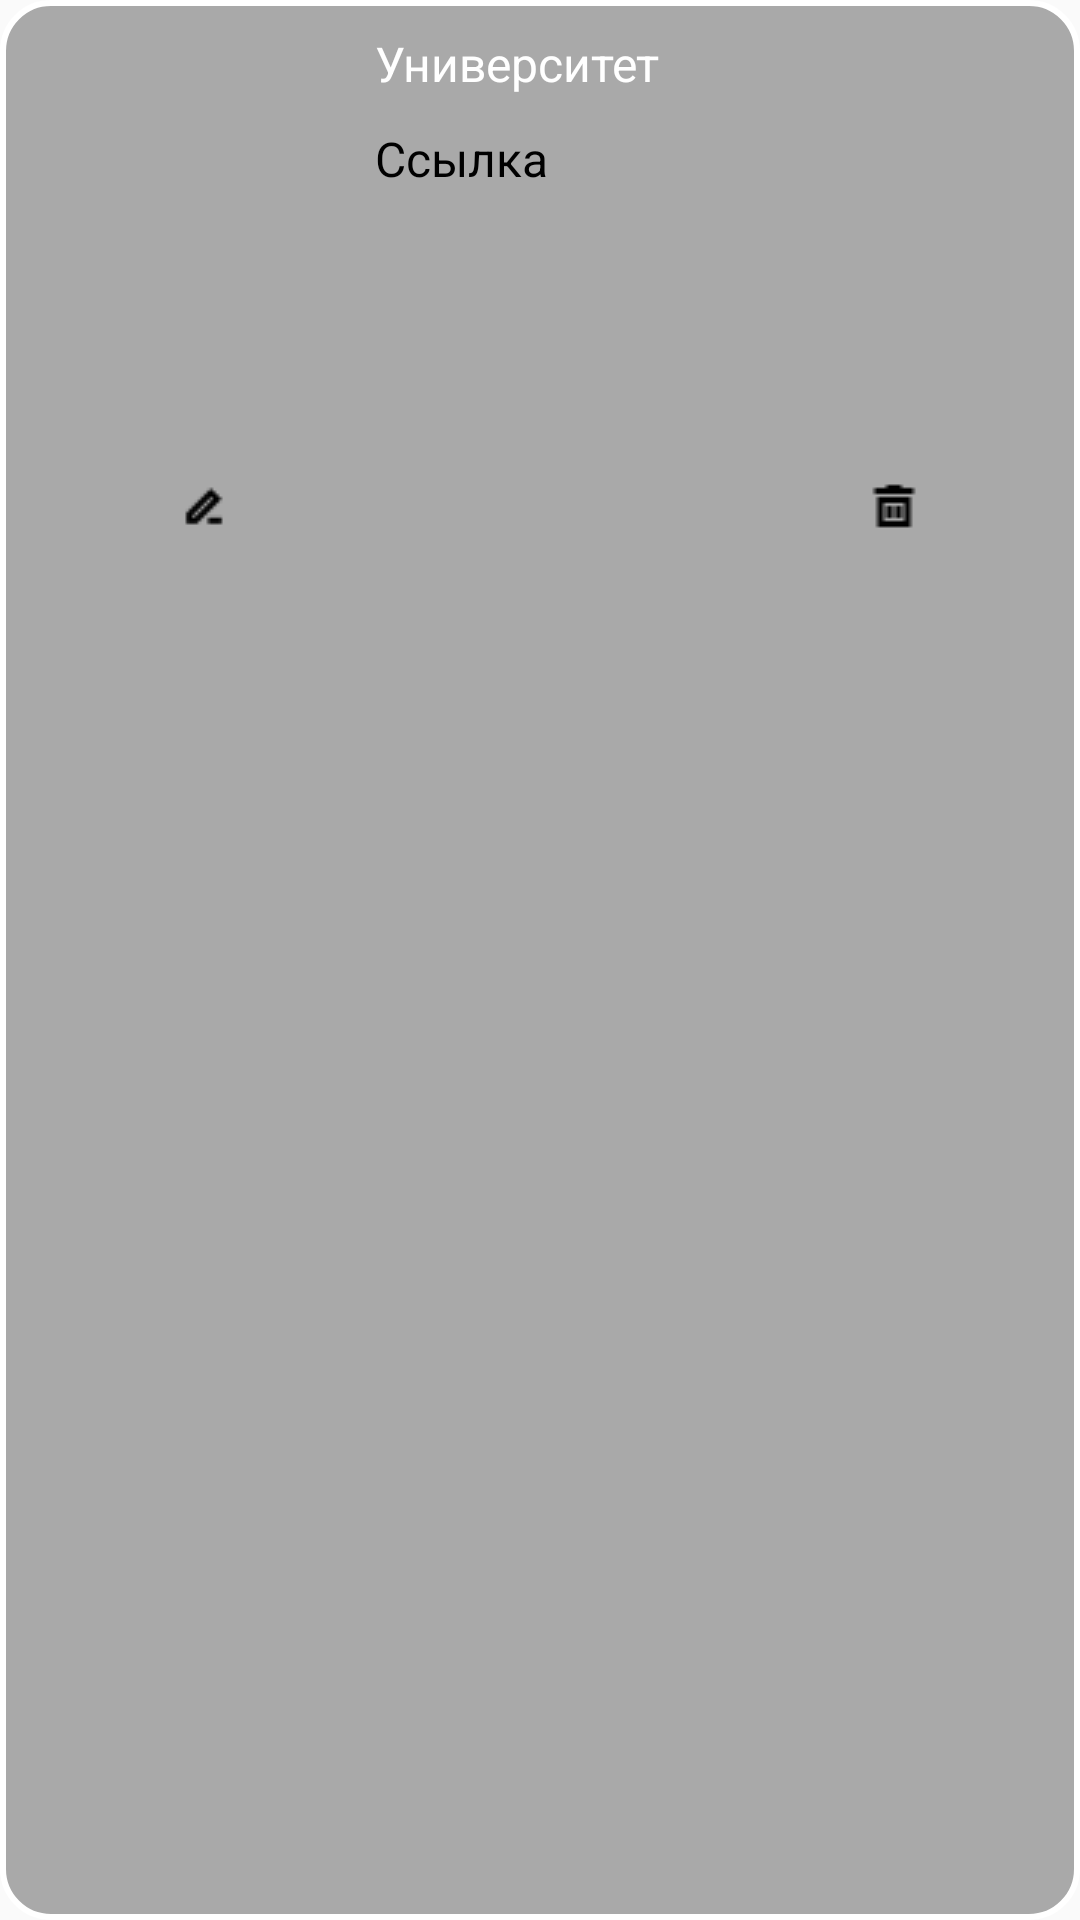

Where icons sit on this 1080 x 1920 app screen, as [x1=x1, y1=y1, x2=x2, y2=y2]:
delete: [x1=872, y1=484, x2=916, y2=528]
edit: [x1=185, y1=487, x2=223, y2=525]
